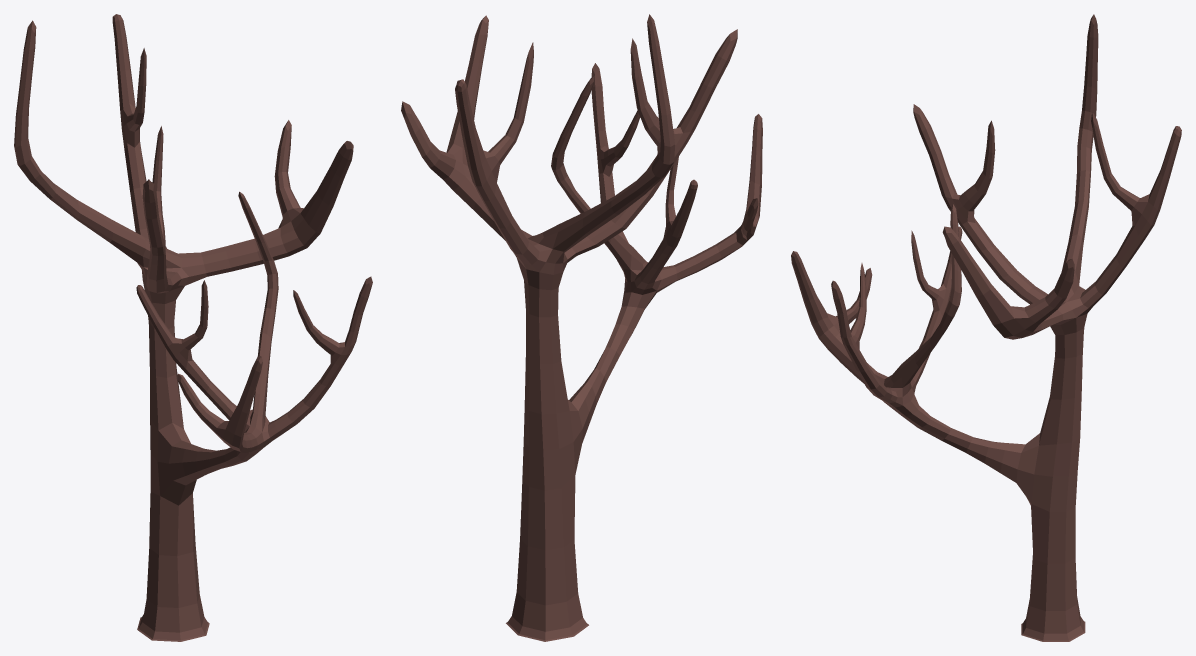
File: common_tree_dead_2.glb
3 views of the same model, side by side, from view 1: azimuth 30°, elevation 25°; view 2: azimuth 150°, elevation 25°; view 3: azimuth 270°, elevation 25° (orthographic). The views are drawn at different scales.
Parts seen in each view (by area): view 1: common_tree_dead_2; view 2: common_tree_dead_2; view 3: common_tree_dead_2.
Part boxes in pixels (<box>): common_tree_dead_2: <box>14,14,372,641</box>; common_tree_dead_2: <box>401,14,762,641</box>; common_tree_dead_2: <box>791,14,1181,641</box>.
Size of the model in its own units: 1.33 by 2.96 by 1.86.
Materials: 1 (1 with a texture image).
